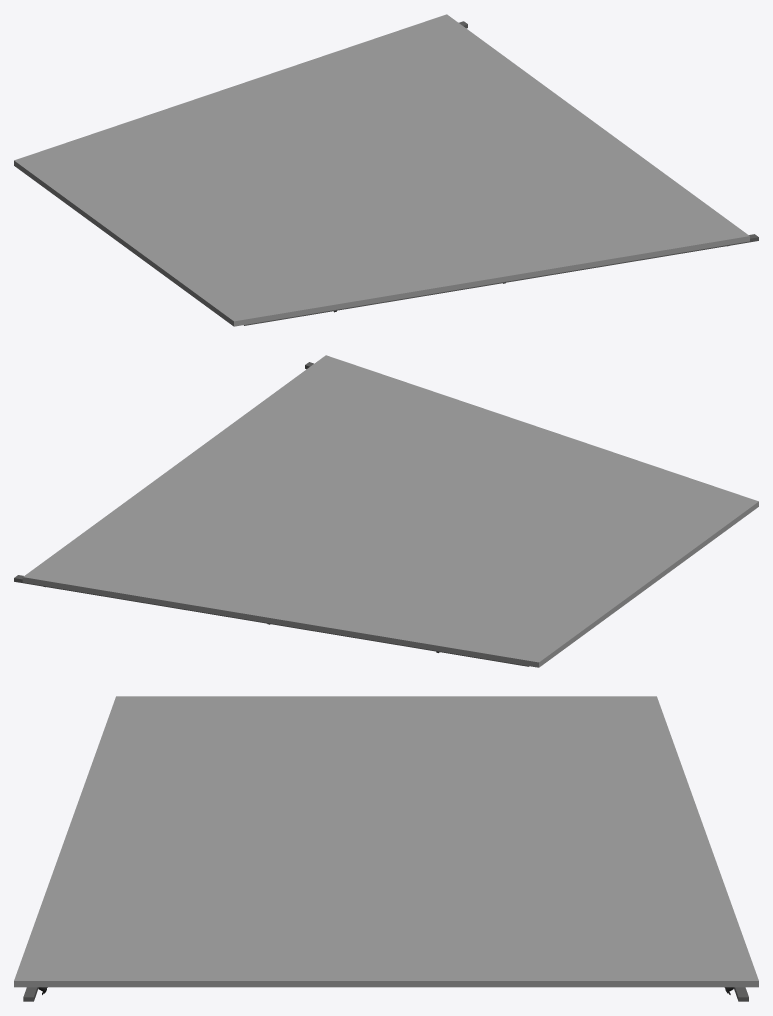
File: dumamaplon.fbx
3 renders of one model, top to bottom at view 1: azimuth 30°, elevation 25°; view 2: azimuth 150°, elevation 25°; view 3: azimuth 270°, elevation 25°, orthographic. The views are drawn at different scales.
Visible parts, largest first — view 1: polySurface1375, den7; view 2: polySurface1375, den6; view 3: polySurface1375.
Part boxes in pixels (x1,y1,x2,y2): polySurface1375: (14,14,749,326); den7: (244,234,758,325); polySurface1375: (22,355,758,667); den6: (14,575,528,666); polySurface1375: (14,696,758,987).
Size of the model in its own units: 32.1 by 1.01 by 34.57.
1 material, 1 textured.
